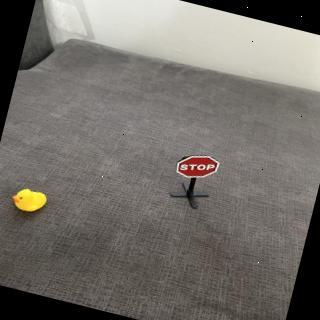duck_regular: (10, 185, 50, 217)
sign_stop: (175, 148, 223, 187)
